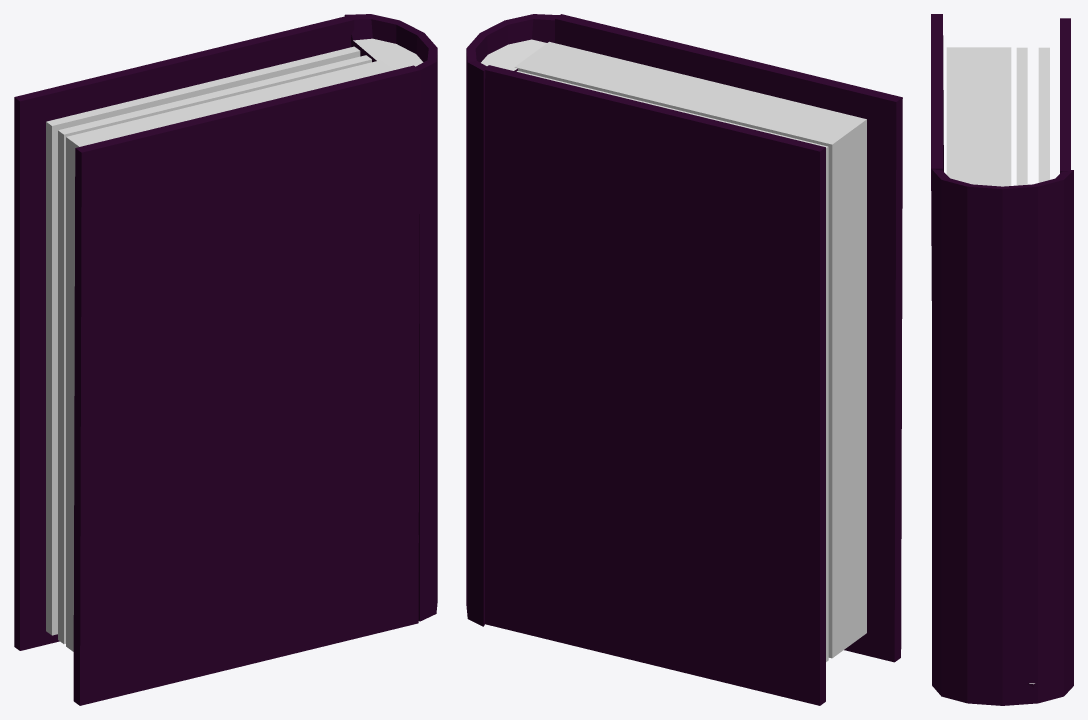
Rendered from InforamtionsBuch.fbx.
3 views of the same model, side by side, from view 1: azimuth 30°, elevation 25°; view 2: azimuth 150°, elevation 25°; view 3: azimuth 270°, elevation 25° (orthographic). The views are drawn at different scales.
Visible parts, largest first — view 1: Cube.027, Cube, Cube.002, Cube.001; view 2: Cube, Cube.027, Cube.001; view 3: Cube.027, Cube, Cube.001, Cube.002.
Part boxes in pixels (x1,y1,x2,y2): Cube.027: (66, 14, 437, 705); Cube: (14, 15, 354, 650); Cube.002: (46, 46, 360, 635); Cube.001: (58, 55, 371, 643); Cube: (483, 65, 825, 705); Cube.027: (466, 14, 902, 662); Cube.001: (516, 71, 828, 661); Cube.027: (931, 14, 1073, 705); Cube: (1060, 18, 1070, 173); Cube.001: (1016, 47, 1027, 185); Cube.002: (1038, 47, 1049, 182).
Size of the model in its own units: 24.28 by 33.75 by 8.42.
